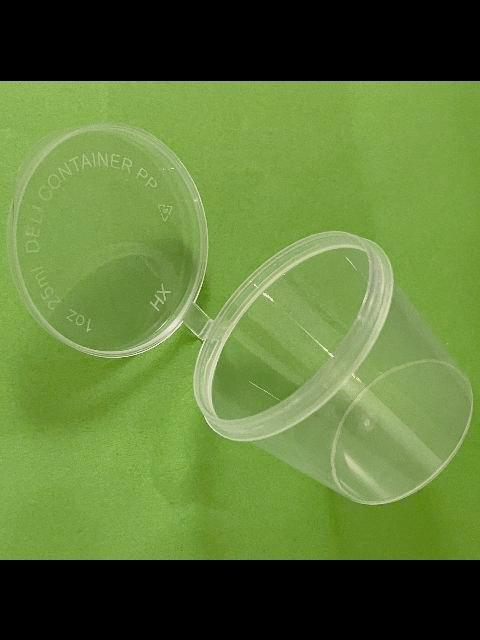plasticcontainer: (5, 121, 476, 505)
